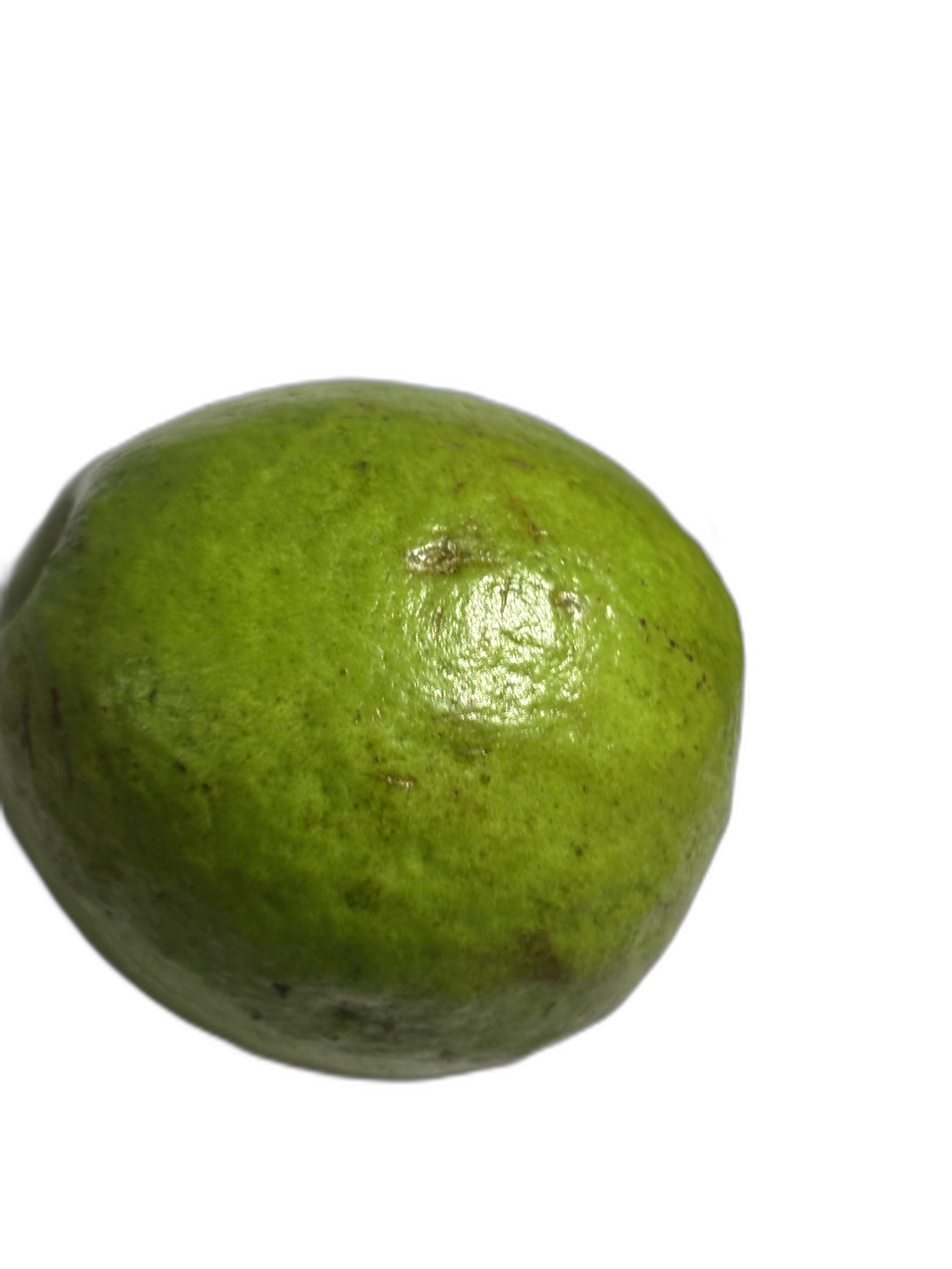guava: (13, 85, 771, 1079)
